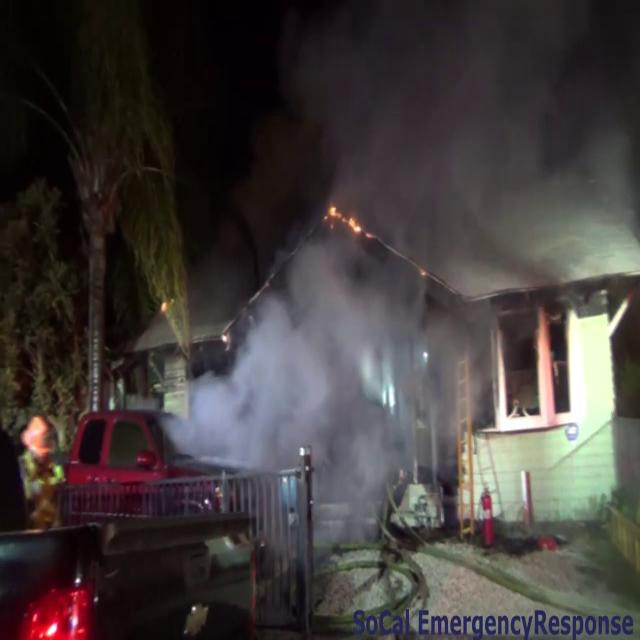Smoke: (307, 0, 640, 310), (213, 256, 492, 510)
